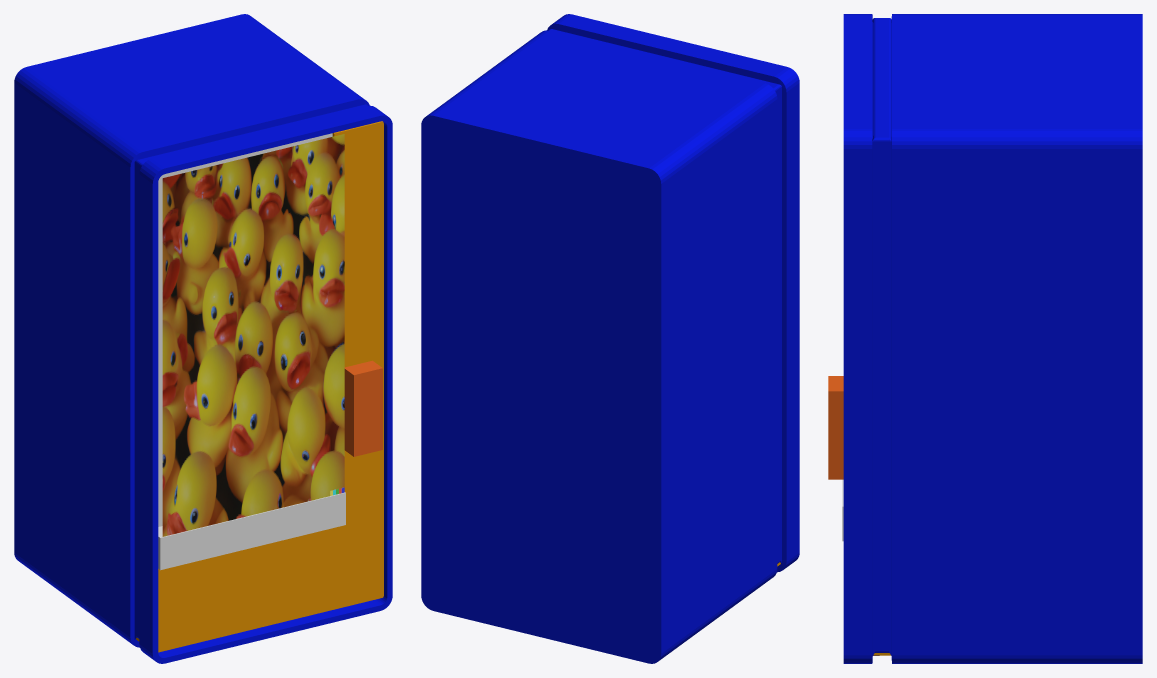
The model's file is vending-machine-blue.glb.
3 views of the same model, side by side, from view 1: azimuth 30°, elevation 25°; view 2: azimuth 150°, elevation 25°; view 3: azimuth 270°, elevation 25° (orthographic). The views are drawn at different scales.
Visible parts, largest first — view 1: Cube.001, DALL·E 2023-02-05 13.33.33 - wallpaper of rubber duckies, Cube.002, Cube.004, Cube.003, Plane; view 2: Cube.001; view 3: Cube.001, Cube.003.
Boxes of the visible parts, left/top/right/bottom form: Cube.001: left=14, top=14, right=392, bottom=663; DALL·E 2023-02-05 13.33.33 - wallpaper of rubber duckies: left=162, top=134, right=344, bottom=536; Cube.002: left=136, top=121, right=383, bottom=652; Cube.004: left=158, top=492, right=345, bottom=570; Cube.003: left=344, top=360, right=382, bottom=456; Plane: left=158, top=133, right=332, bottom=526; Cube.001: left=421, top=14, right=799, bottom=663; Cube.001: left=843, top=14, right=1142, bottom=663; Cube.003: left=828, top=376, right=843, bottom=479.
Bounding box in the file's own units: 4.69 × 9.25 × 4.94.
Materials: 5 (1 with a texture image).
